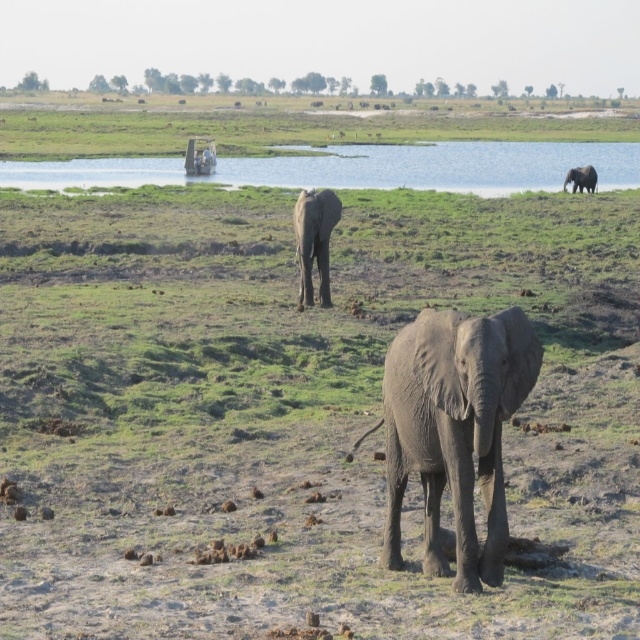Elephant: (361, 310, 536, 597), (290, 190, 340, 317), (564, 158, 601, 199)
